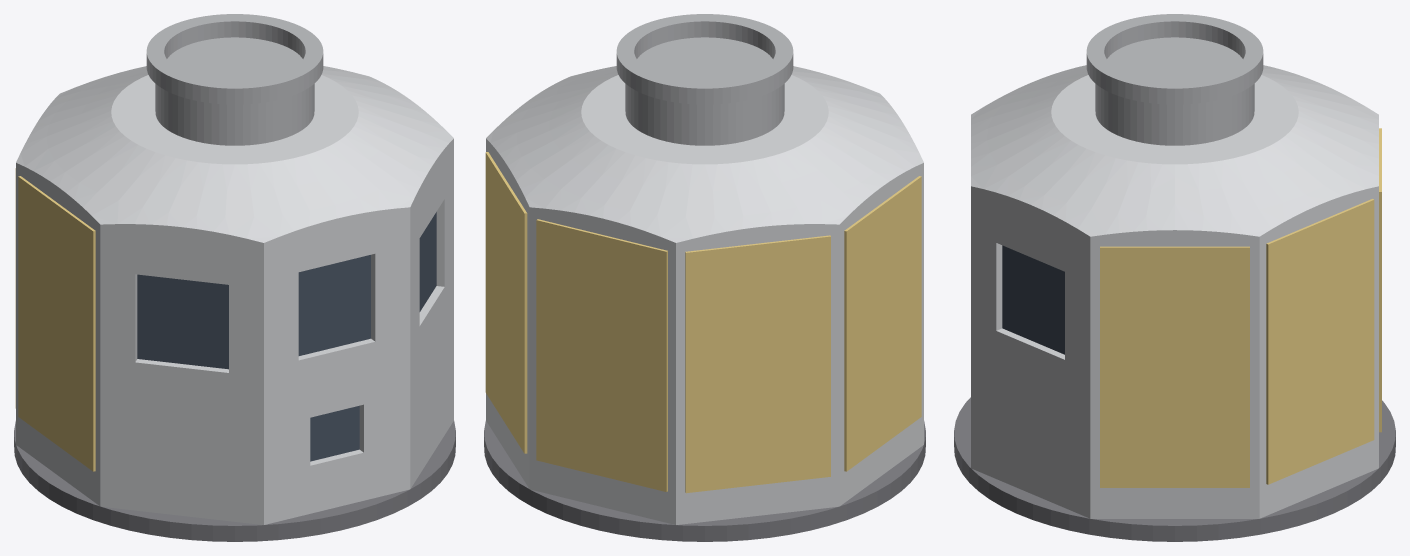
File: cmd09_lander_cabin.glb
3 views of the same model, side by side, from view 1: azimuth 30°, elevation 25°; view 2: azimuth 150°, elevation 25°; view 3: azimuth 270°, elevation 25° (orthographic).
Visible parts, largest first — view 1: cabin_structure, roof, docking_tunnel, mli_panels, windows, base_ring; view 2: mli_panels, roof, cabin_structure, docking_tunnel, base_ring; view 3: mli_panels, roof, cabin_structure, docking_tunnel, base_ring, windows.
Part boxes in pixels (left/top/right/bottom): cabin_structure: left=16, top=140, right=453, bottom=524; roof: left=16, top=66, right=453, bottom=244; docking_tunnel: left=146, top=14, right=323, bottom=145; mli_panels: left=15, top=168, right=95, bottom=471; windows: left=137, top=212, right=436, bottom=461; base_ring: left=14, top=421, right=455, bottom=541; mli_panels: left=485, top=152, right=921, bottom=493; roof: left=486, top=66, right=923, bottom=244; cabin_structure: left=486, top=140, right=923, bottom=524; docking_tunnel: left=616, top=14, right=793, bottom=145; base_ring: left=484, top=421, right=925, bottom=541; mli_panels: left=1100, top=128, right=1381, bottom=487; roof: left=971, top=65, right=1378, bottom=238; cabin_structure: left=971, top=188, right=1378, bottom=518; docking_tunnel: left=1086, top=14, right=1263, bottom=145; base_ring: left=954, top=397, right=1395, bottom=541; windows: left=1002, top=245, right=1064, bottom=354.
Size of the model in its own units: 2.5 by 2.48 by 2.5.
